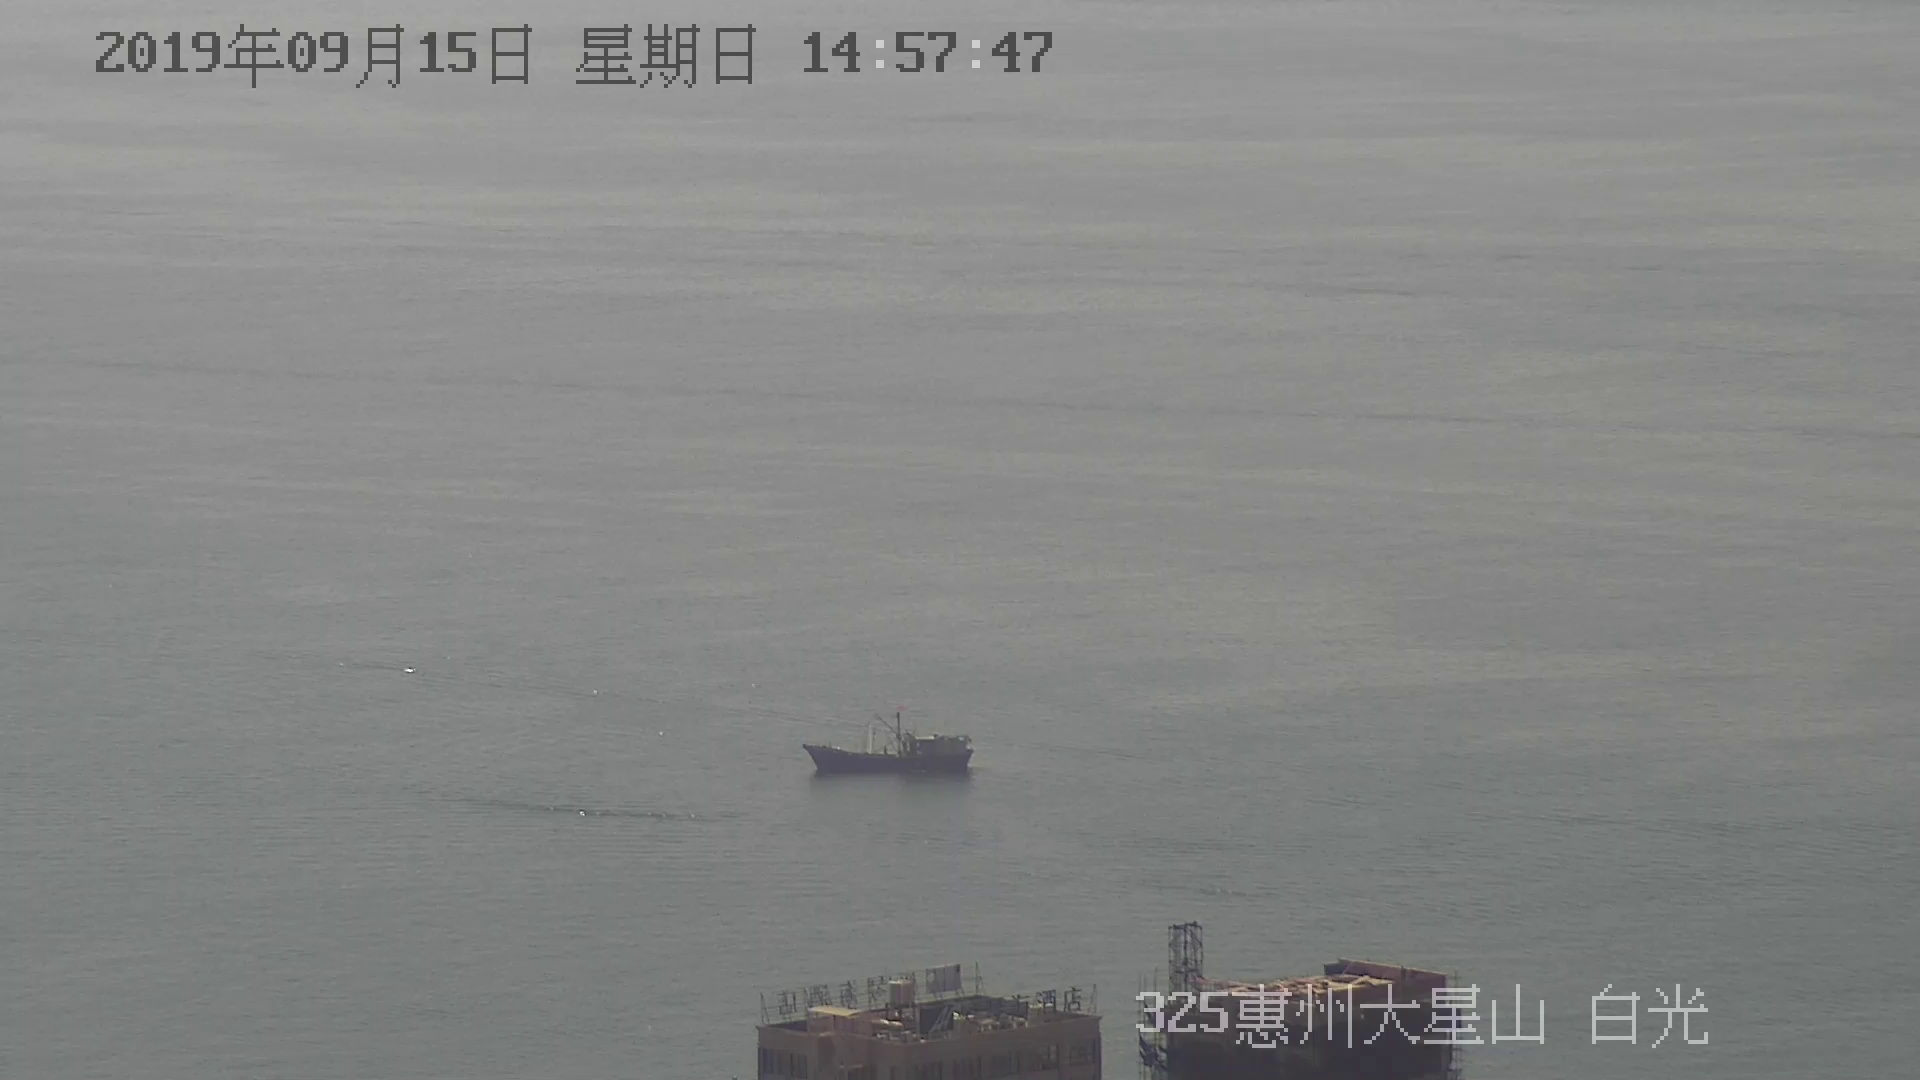ship: (807, 703, 976, 777)
